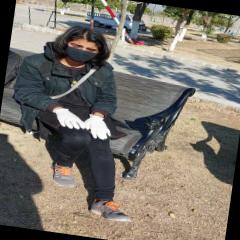gloved: (51, 107, 86, 130), (84, 114, 112, 140)
